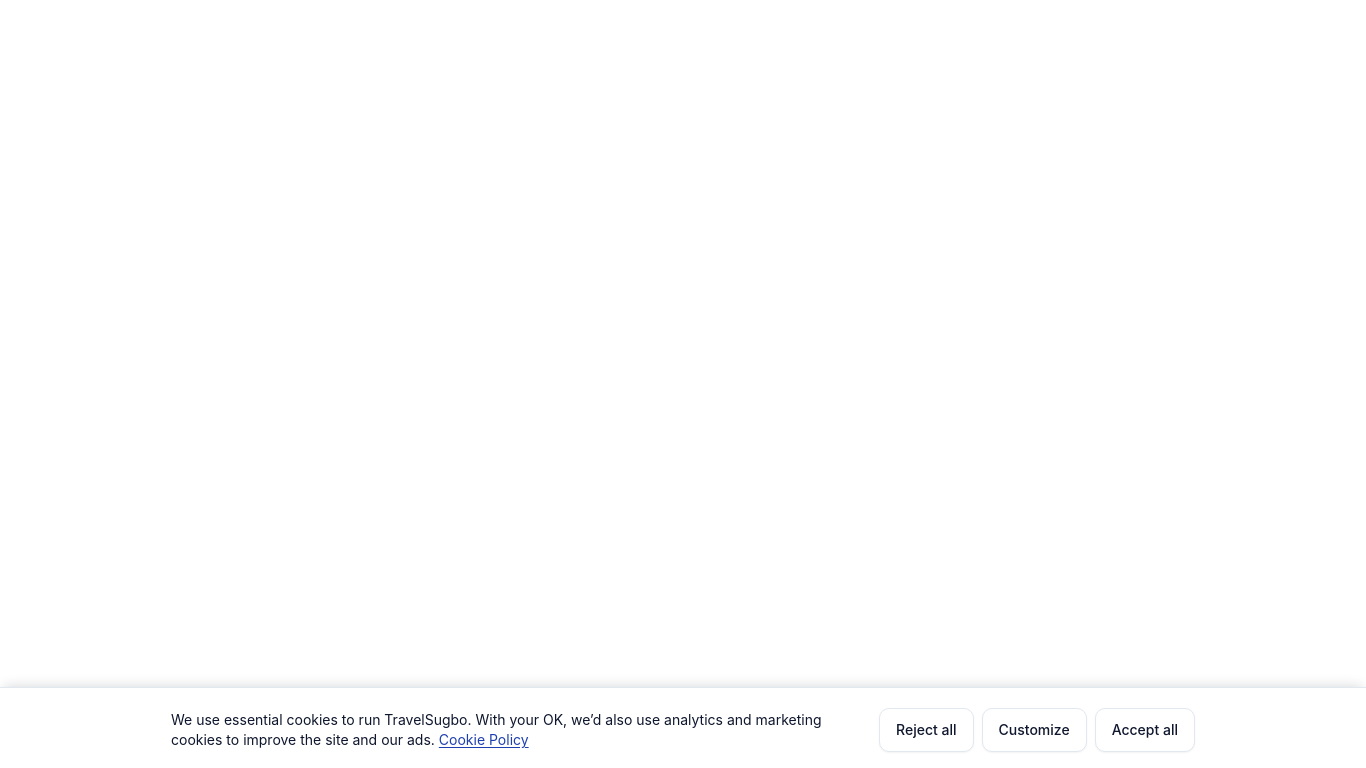
Test: Customize panel › opens with no box pre-ticked beyond the locked Essential switch
The width and height of the screenshot is (1366, 768).
Click the button "Customize" at coordinates (1034, 730), box left=982, top=708, right=1087, bottom=752
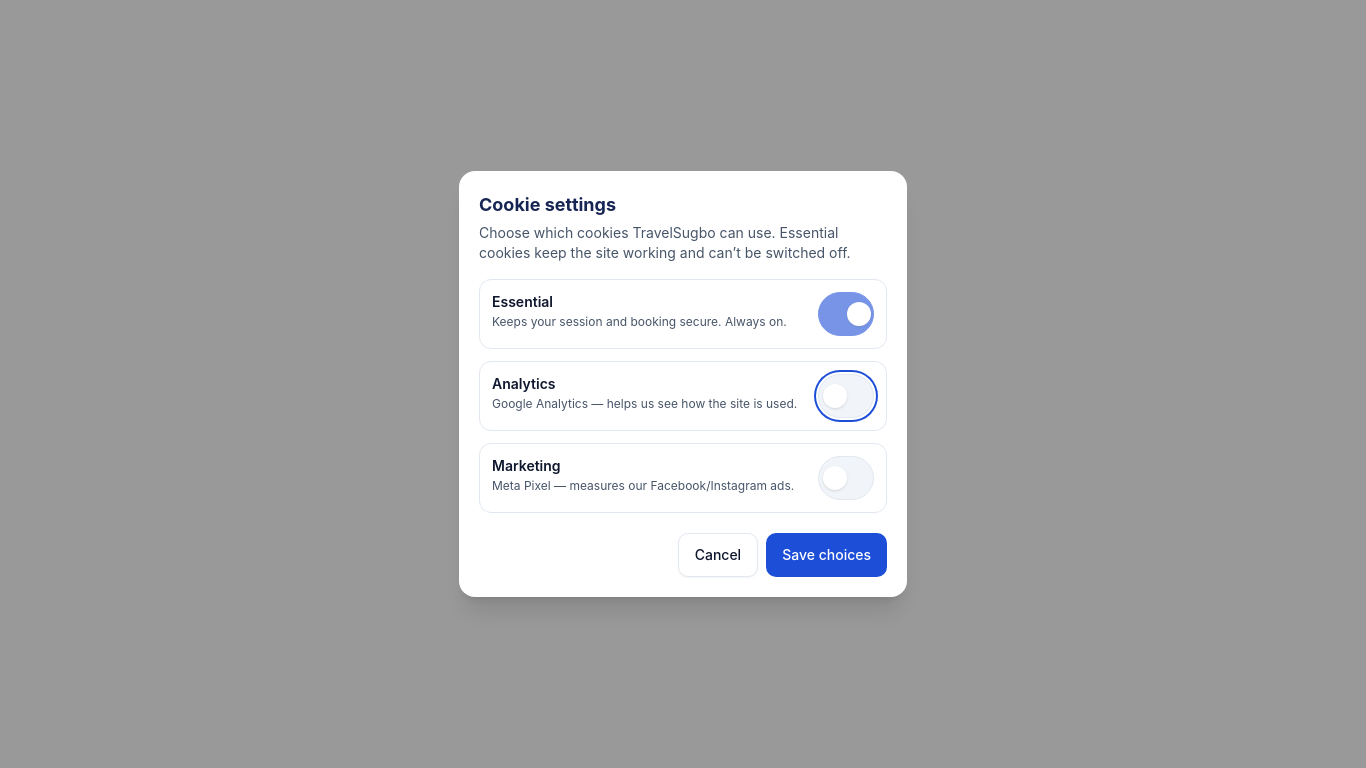
Check: the switch named "Essential" is disabled, box left=818, top=292, right=874, bottom=336
